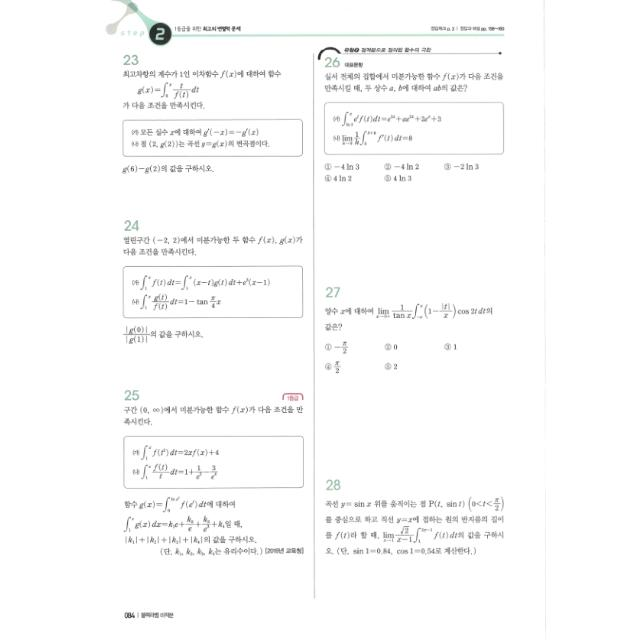multiple: (314, 42, 512, 186), (318, 280, 512, 380)
short: (115, 380, 308, 558), (117, 212, 309, 350), (116, 49, 308, 178), (316, 472, 518, 564)
